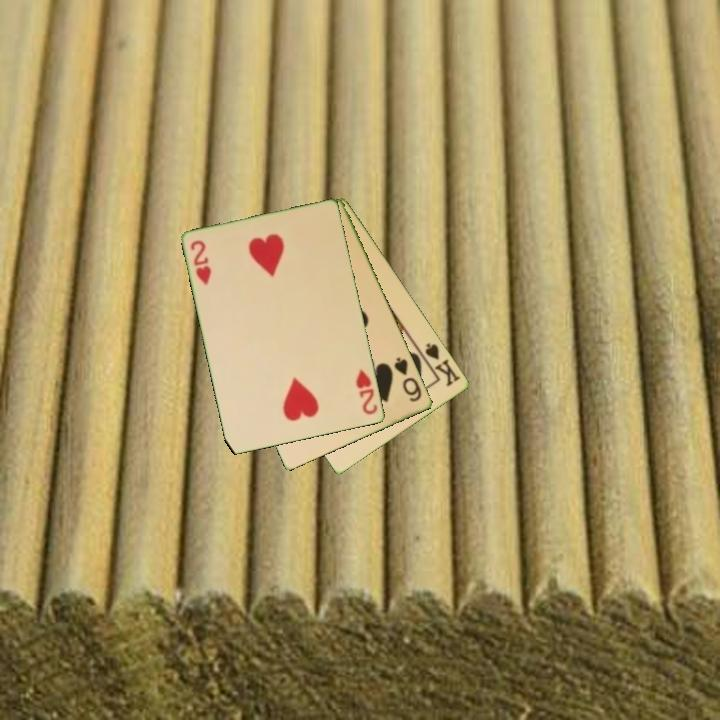2h: (353, 366, 381, 418), (187, 237, 214, 288)
6s: (391, 354, 425, 405)
Ks: (416, 339, 463, 390)
